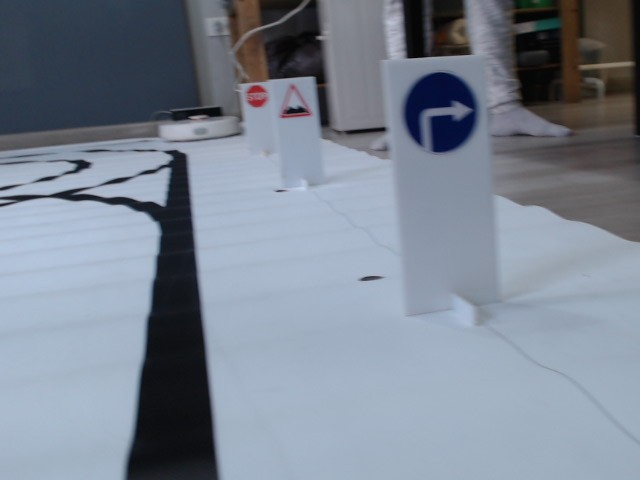Nerov: (278, 83, 313, 118)
Right: (403, 70, 479, 155)
